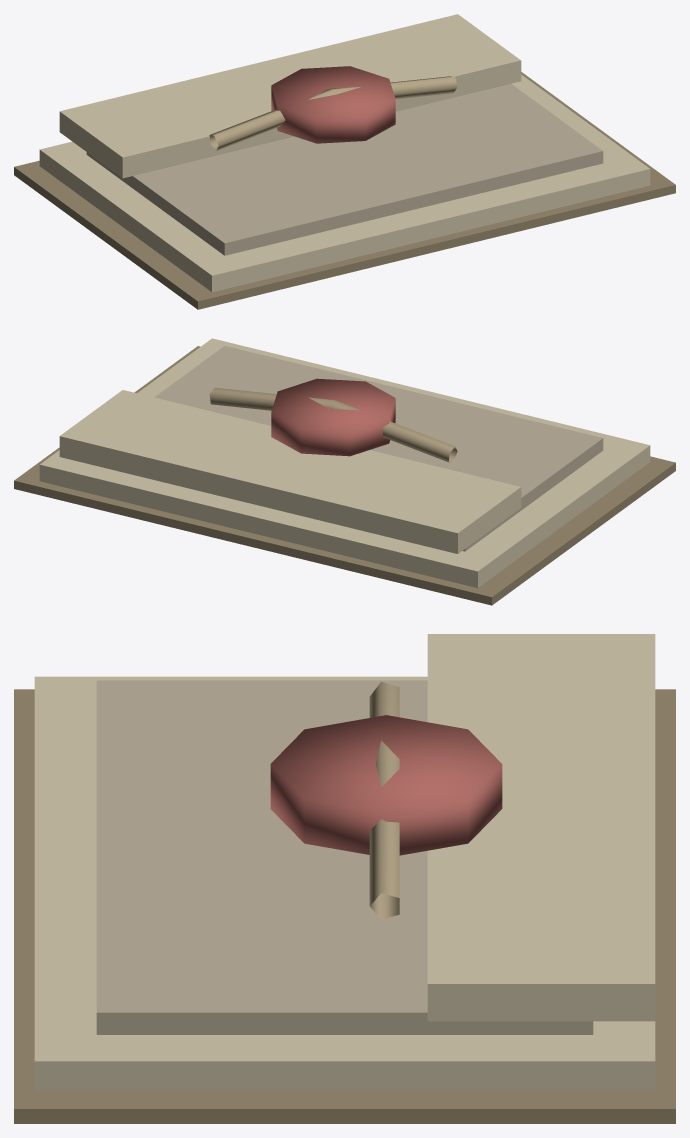
Rendered from letter_packet.glb.
3 views of the same model, one above another, from view 1: azimuth 30°, elevation 25°; view 2: azimuth 150°, elevation 25°; view 3: azimuth 270°, elevation 25° (orthographic). The views are drawn at different scales.
Parts seen in each view (by area): view 1: Packet_Inner, Packet_Flap, Packet_Fold, Packet_Dust, Packet_Wax, Packet_Cord; view 2: Packet_Flap, Packet_Fold, Packet_Inner, Packet_Dust, Packet_Wax, Packet_Cord; view 3: Packet_Inner, Packet_Flap, Packet_Fold, Packet_Dust, Packet_Wax, Packet_Cord.
Boxes of the visible parts, x1,y1,x2,y2 form: Packet_Inner: (86,84,603,255); Packet_Flap: (59,14,521,178); Packet_Fold: (39,74,650,292); Packet_Dust: (14,72,675,309); Packet_Wax: (271,66,395,143); Packet_Cord: (209,76,457,150); Packet_Flap: (59,390,521,553); Packet_Fold: (39,338,650,587); Packet_Inner: (154,346,603,551); Packet_Dust: (14,346,675,605); Packet_Wax: (271,378,395,456); Packet_Cord: (209,387,457,462); Packet_Inner: (96,680,593,1034); Packet_Flap: (427,634,655,1021); Packet_Fold: (34,676,655,1091); Packet_Dust: (14,689,675,1123); Packet_Wax: (270,715,502,855); Packet_Cord: (369,681,399,919).
Size of the model in its own units: 0.24 by 0.0418 by 0.16.
